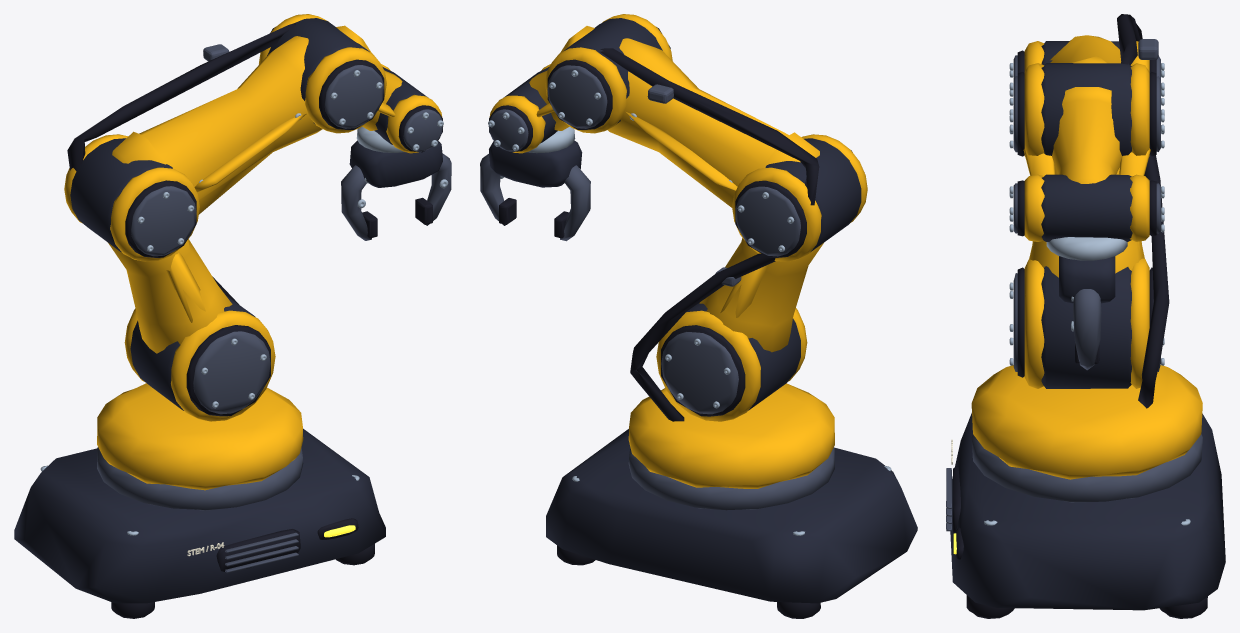
The model's file is robot-arm.glb.
3 views of the same model, side by side, from view 1: azimuth 30°, elevation 25°; view 2: azimuth 150°, elevation 25°; view 3: azimuth 270°, elevation 25° (orthographic). The views are drawn at different scales.
Visible parts, largest first — view 1: Cable restraint, Inset tapered reinforcement; view 2: Cable restraint, Inset tapered reinforcement; view 3: Cable restraint, Inset tapered reinforcement.
Boxes of the visible parts, x1=… form: Cable restraint: x1=14, y1=18, x2=451, y2=618; Inset tapered reinforcement: x1=64, y1=14, x2=442, y2=490; Cable restraint: x1=480, y1=18, x2=917, y2=618; Inset tapered reinforcement: x1=489, y1=14, x2=867, y2=488; Cable restraint: x1=946, y1=14, x2=1225, y2=618; Inset tapered reinforcement: x1=971, y1=35, x2=1202, y2=479.
Bounding box in the file's own units: 0.5045 × 0.5934 × 0.2733.
Materials: 3 (3 with a texture image).
